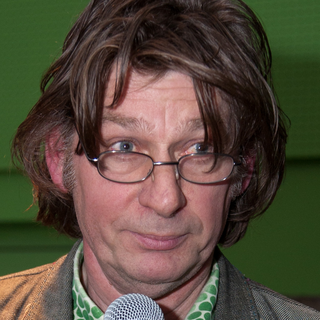eye: (93, 130, 152, 164), (172, 134, 225, 162)
